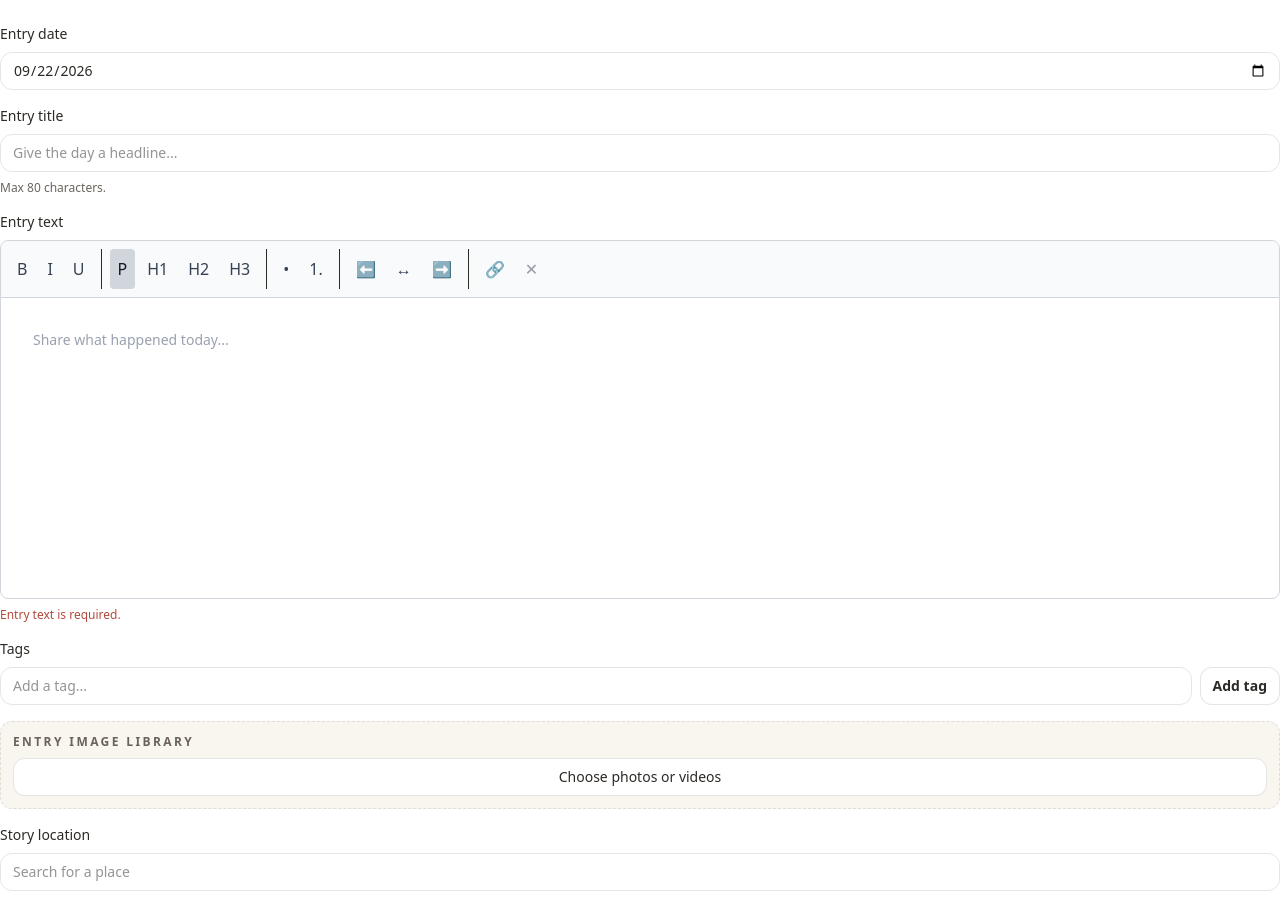
Test case: CreateEntryForm › searches locations and selects a result
Type "Paris" into the field labelled "Story location".
click(640, 872); type("Paris")  # box [0,853,1279,891]
(page scrolled)
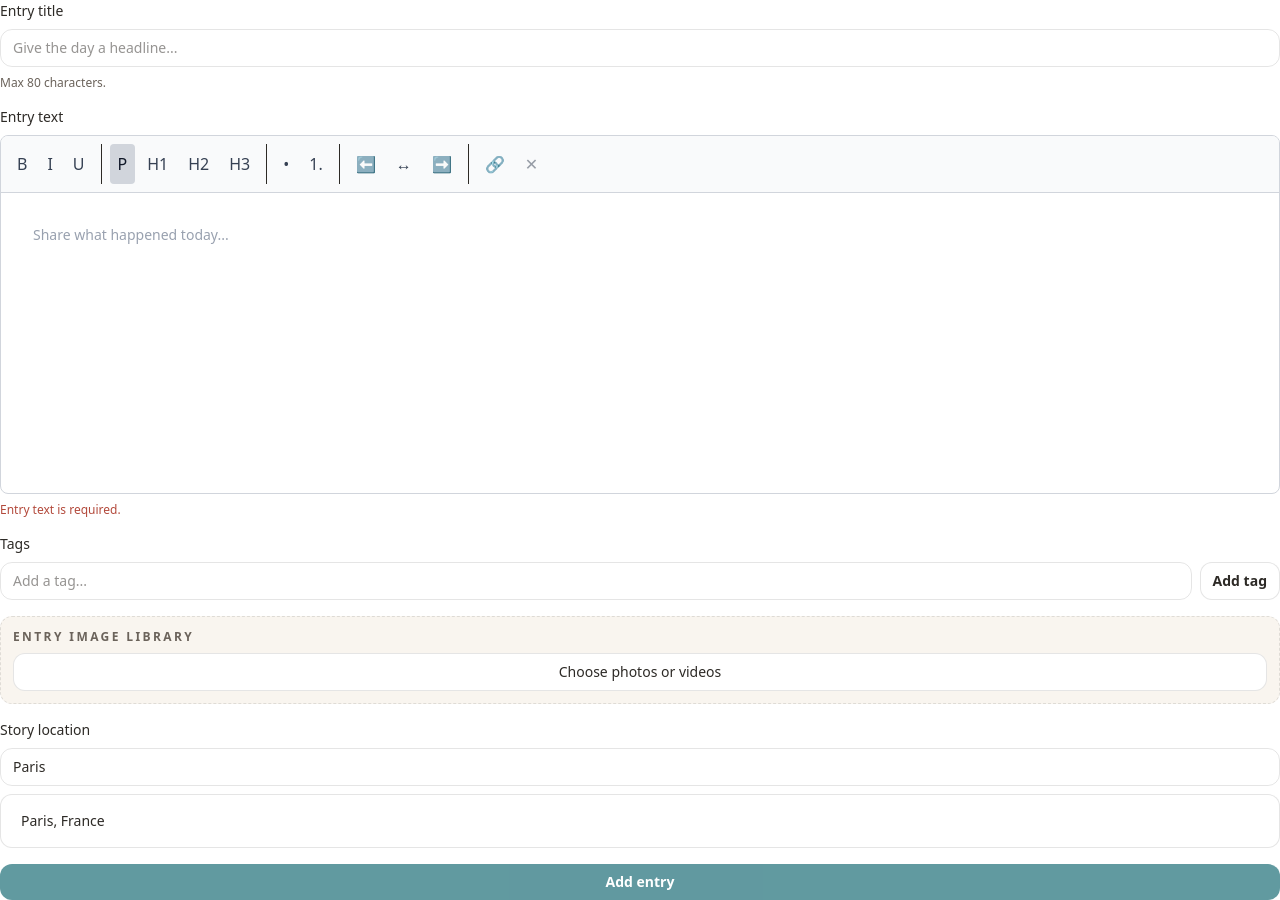
Click the button "Paris, France".
click(63, 820)  # box [9,803,1271,839]
(page scrolled)
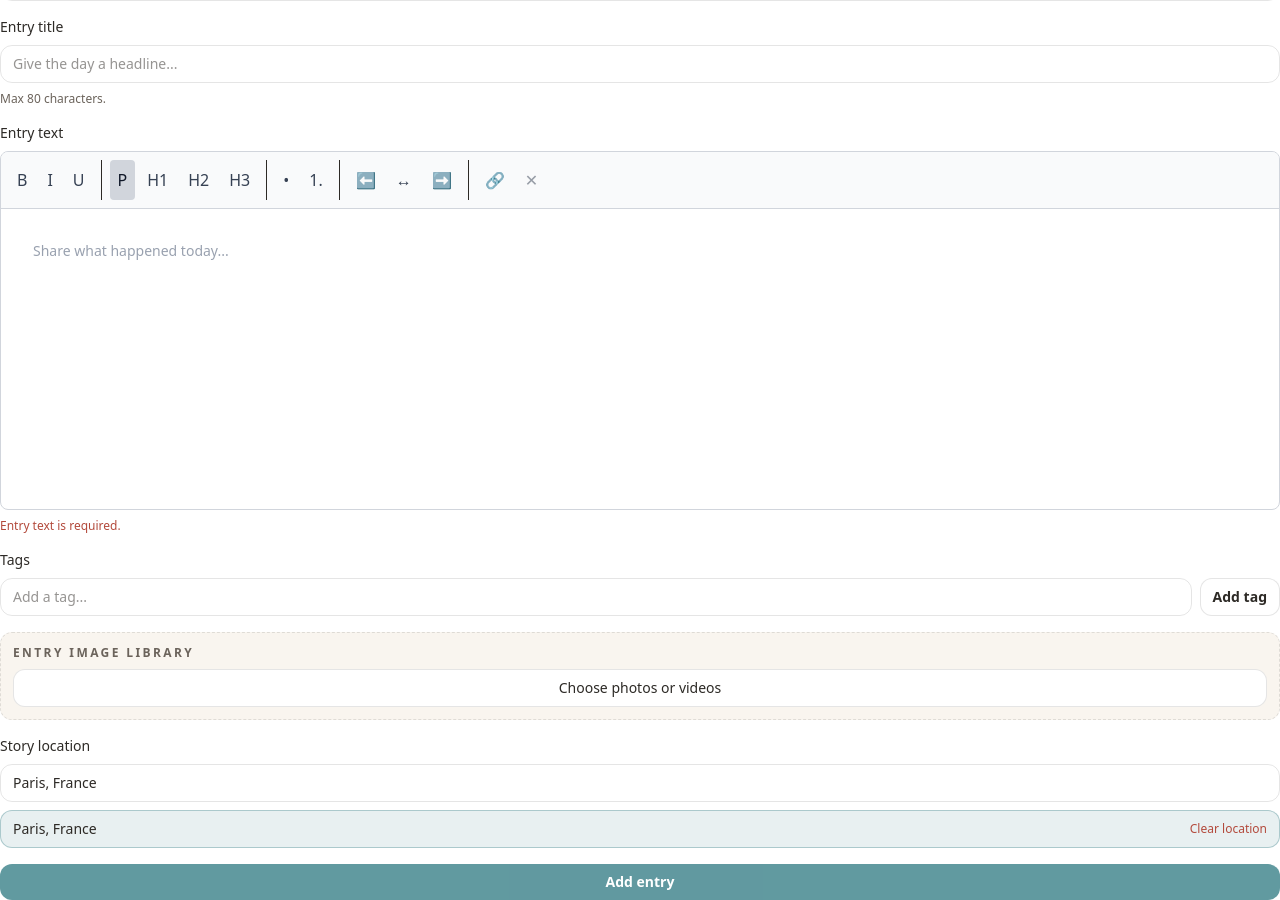
Check: the text "Paris, France" is shown, box [13,819,97,839]
Check: the button "Clear location" is shown, box [1190,821,1267,837]
